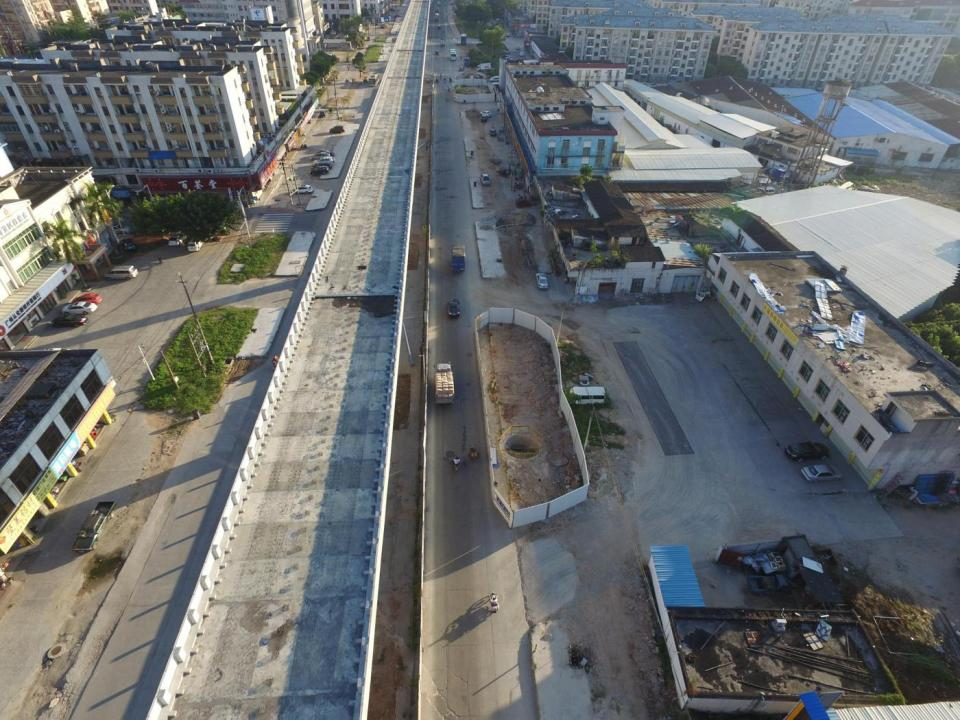bus: (368, 72, 380, 87), (449, 48, 457, 62)
car: (783, 440, 830, 462), (800, 463, 844, 483), (50, 314, 88, 328), (61, 302, 97, 314), (187, 234, 207, 252), (72, 293, 103, 304), (446, 298, 460, 318), (168, 232, 188, 245), (108, 224, 132, 234), (535, 272, 548, 290), (309, 165, 329, 176), (312, 156, 334, 166), (121, 237, 135, 252), (294, 184, 312, 195), (310, 162, 332, 170), (308, 153, 330, 160), (480, 173, 491, 186), (316, 150, 334, 156), (479, 110, 492, 118), (489, 76, 500, 82), (480, 114, 488, 122), (500, 54, 512, 59), (489, 129, 496, 137), (499, 49, 508, 55), (502, 56, 511, 62), (458, 66, 464, 72), (515, 45, 520, 50), (518, 52, 524, 56), (506, 32, 510, 37)
truck: (72, 499, 118, 554), (745, 572, 791, 595), (433, 361, 455, 405), (450, 244, 466, 273), (476, 62, 491, 71), (460, 34, 466, 46), (440, 37, 447, 47), (464, 56, 470, 67)
van: (569, 386, 606, 406), (102, 265, 138, 280), (328, 126, 345, 134)
